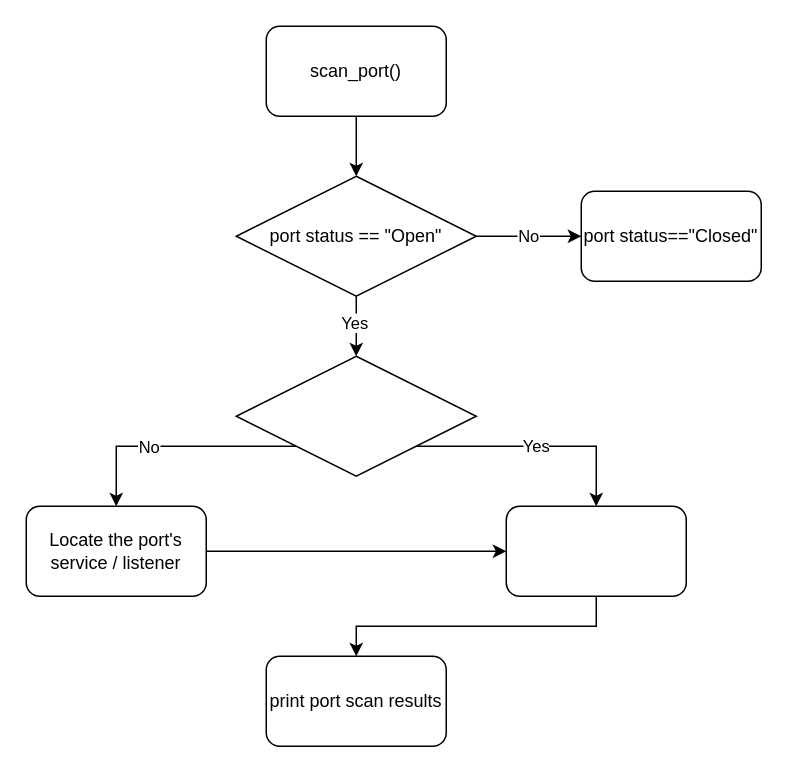
This 788x773 diagram has some shape labels left out. The shapes that lost their labels are listed below. From the top down, each one's centre as x and y in pixels, then its label:
point (355, 415): port in common_ports{}
point (595, 550): Append(port, service, status)
